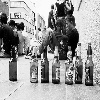beer: (41, 46, 51, 82)
